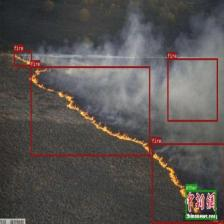fire: (30, 66, 150, 156), (151, 143, 224, 223), (168, 58, 218, 121), (14, 50, 32, 66)
